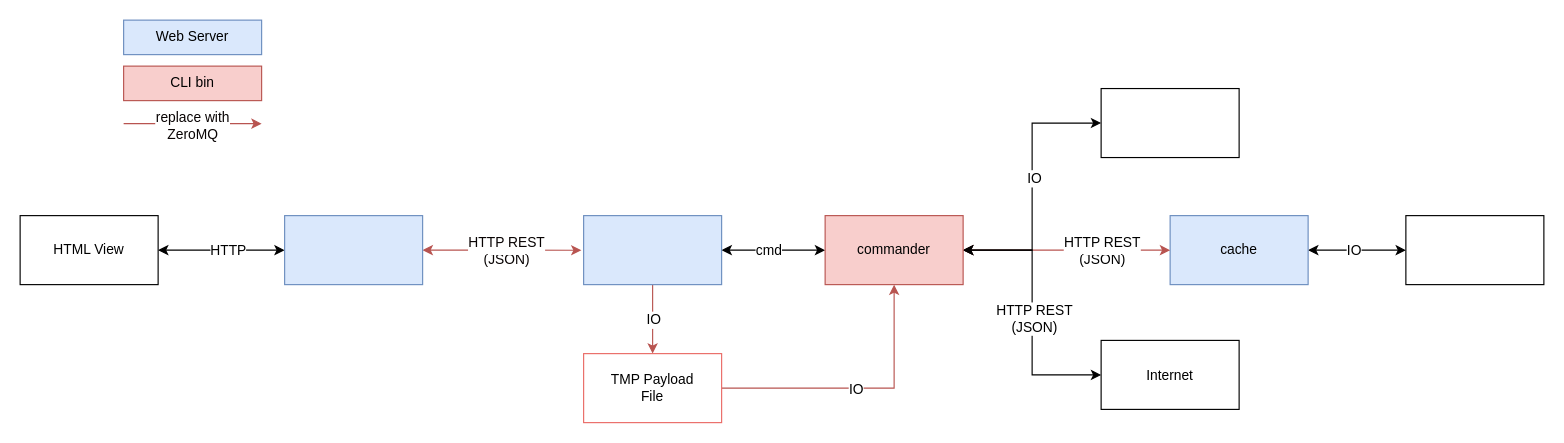
This 1564x443 diagram has some shape labels left out. Each missing label, with the centre of its shape:
"Cache Files" belongs at (1474,249).
"File System" belongs at (1169,122).
"proxy" belongs at (652,249).
"webview" belongs at (353,249).
